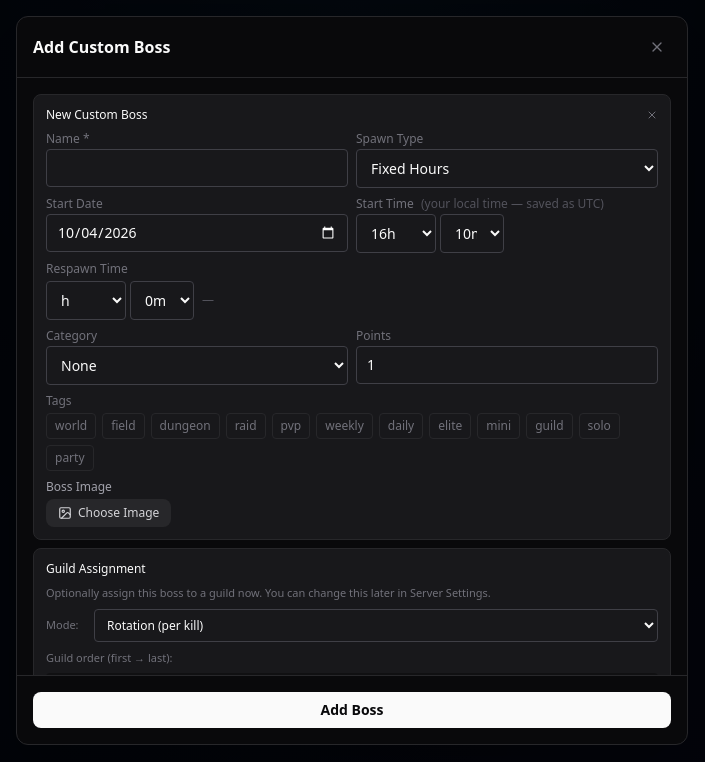
it: AddBossModal › renders schedule day dropdowns when mode is schedule
Expected: the heading "Guild Assignment" is shown, left=46, top=560, right=146, bottom=576
Select "Schedule" in the dropdown next to "Mode:". click: coordinates (376, 626)
box: left=94, top=609, right=658, bottom=642
(page scrolled)
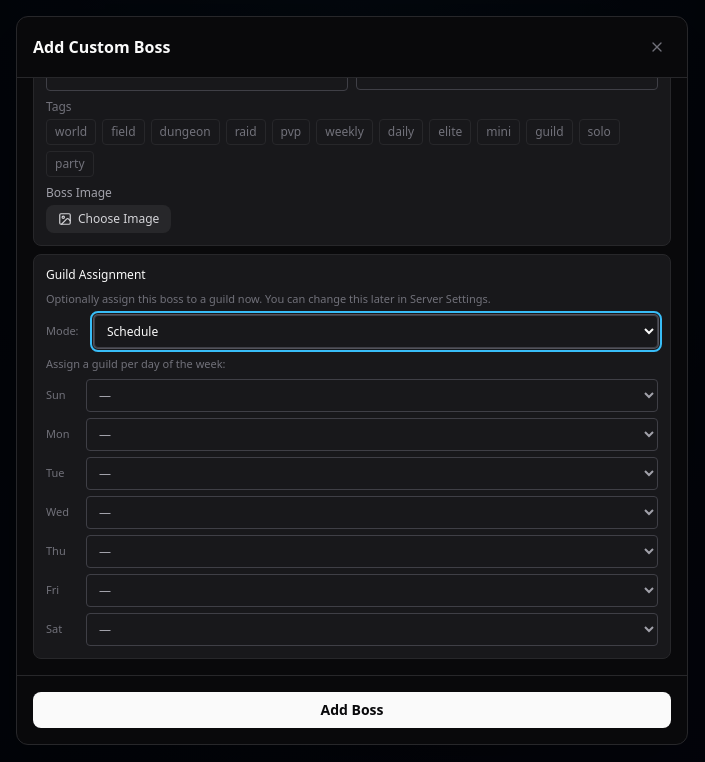
Expected: the text "Sun" is shown, left=46, top=387, right=66, bottom=402
Expected: the text "Mon" is shown, left=46, top=426, right=69, bottom=441
Expected: the text "Sat" is shown, left=46, top=621, right=62, bottom=636
